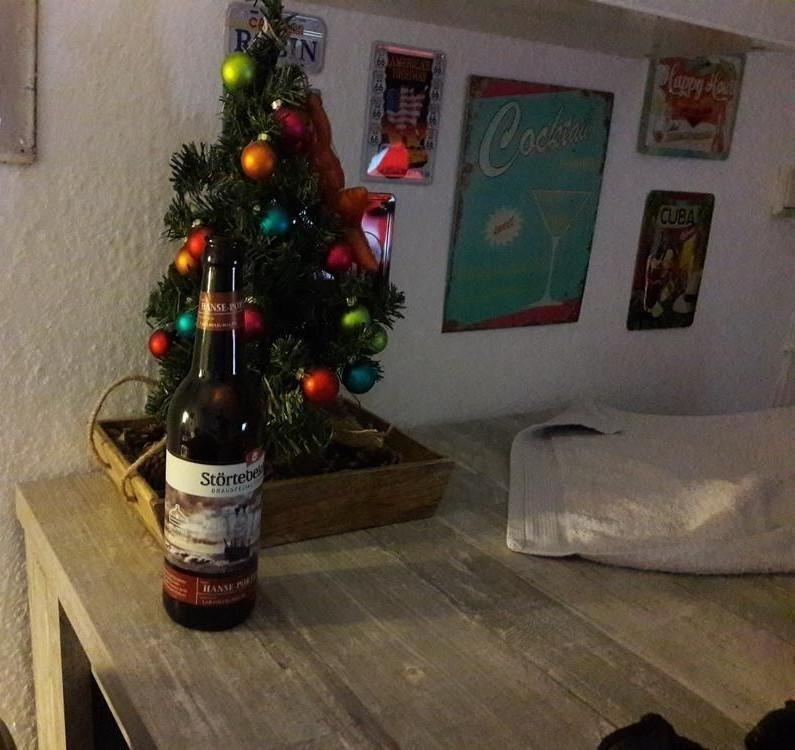bottle-glass: (161, 236, 268, 633)
